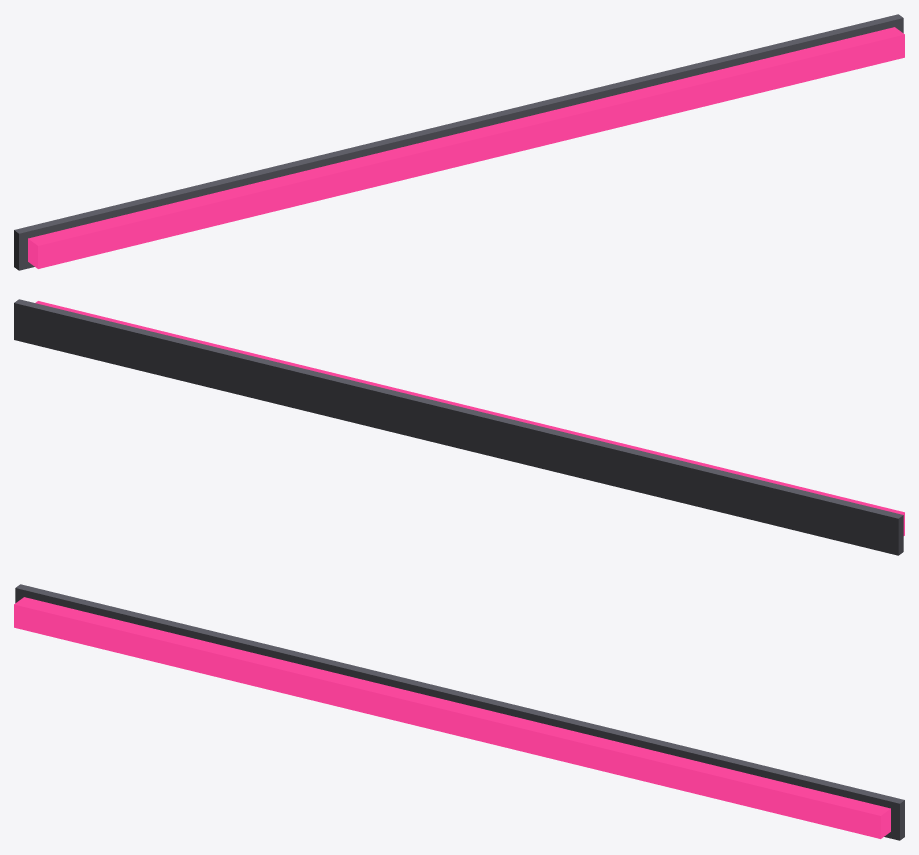
The model's file is neon_strip.glb.
3 renders of one model, top to bottom at view 1: azimuth 30°, elevation 25°; view 2: azimuth 150°, elevation 25°; view 3: azimuth 330°, elevation 25°, orthographic.
Parts seen in each view (by area): view 1: neon_strip_Glow, neon_strip_Mount; view 2: neon_strip_Mount, neon_strip_Glow; view 3: neon_strip_Glow, neon_strip_Mount.
Boxes of the visible parts, x1,y1,x2,y2 form: neon_strip_Glow: [28, 27, 904, 268]; neon_strip_Mount: [14, 14, 903, 270]; neon_strip_Mount: [14, 299, 903, 555]; neon_strip_Glow: [35, 301, 904, 535]; neon_strip_Glow: [14, 597, 890, 838]; neon_strip_Mount: [15, 584, 904, 840].
Size of the model in its own units: 2 by 0.08 by 0.06.
